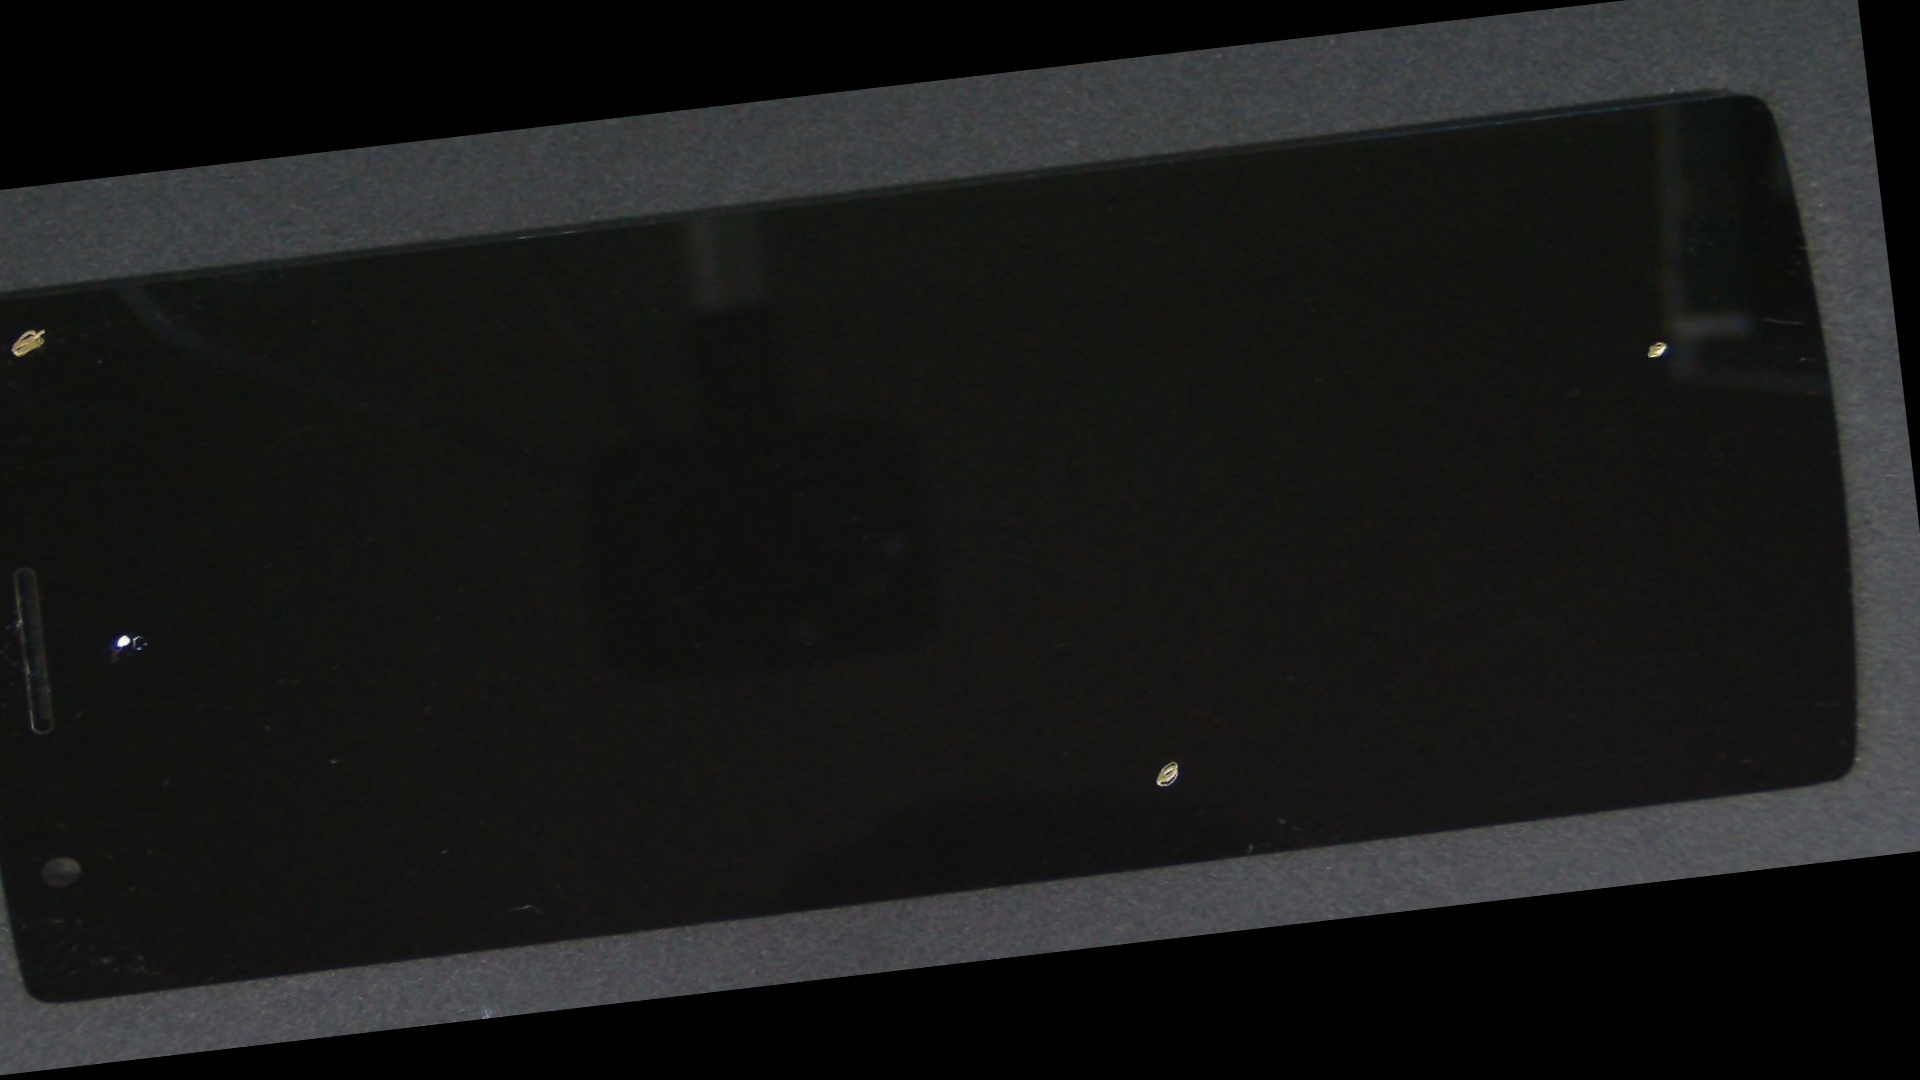oil: (479, 335, 1843, 1012), (720, 143, 1914, 618), (0, 391, 291, 877), (0, 244, 155, 412)
